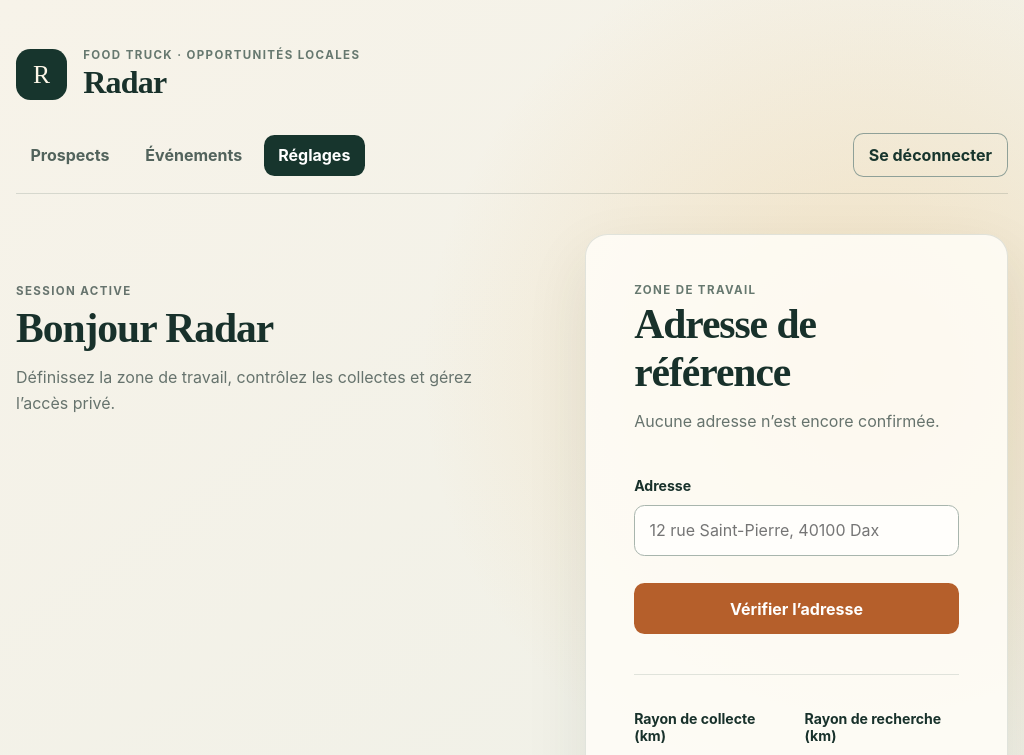
Test case: authentication interface › returns to login when the session expires during a settings action
The width and height of the screenshot is (1024, 755).
Check: the heading "Adresse de référence" is shown, box [634, 301, 816, 395]
Type "12 rue Saint-Pierre 40100 Dax" into the field labelled "Adresse" at (797, 530), box [634, 505, 959, 556]
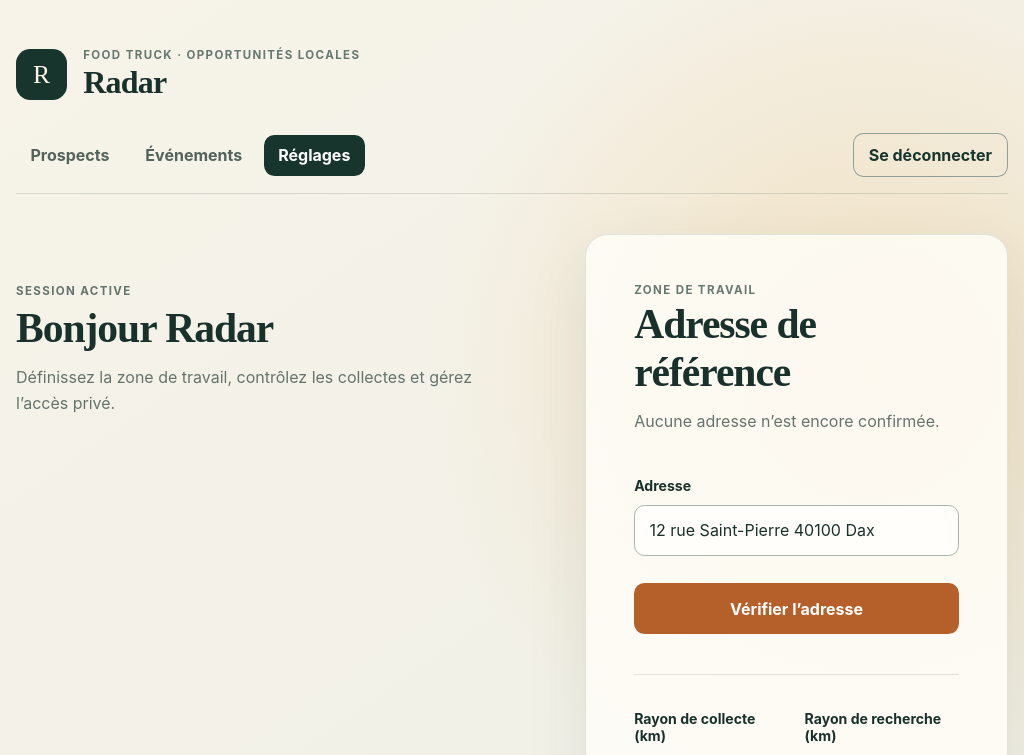
Click the button "Vérifier l’adresse" at (797, 609), box [634, 583, 959, 634]
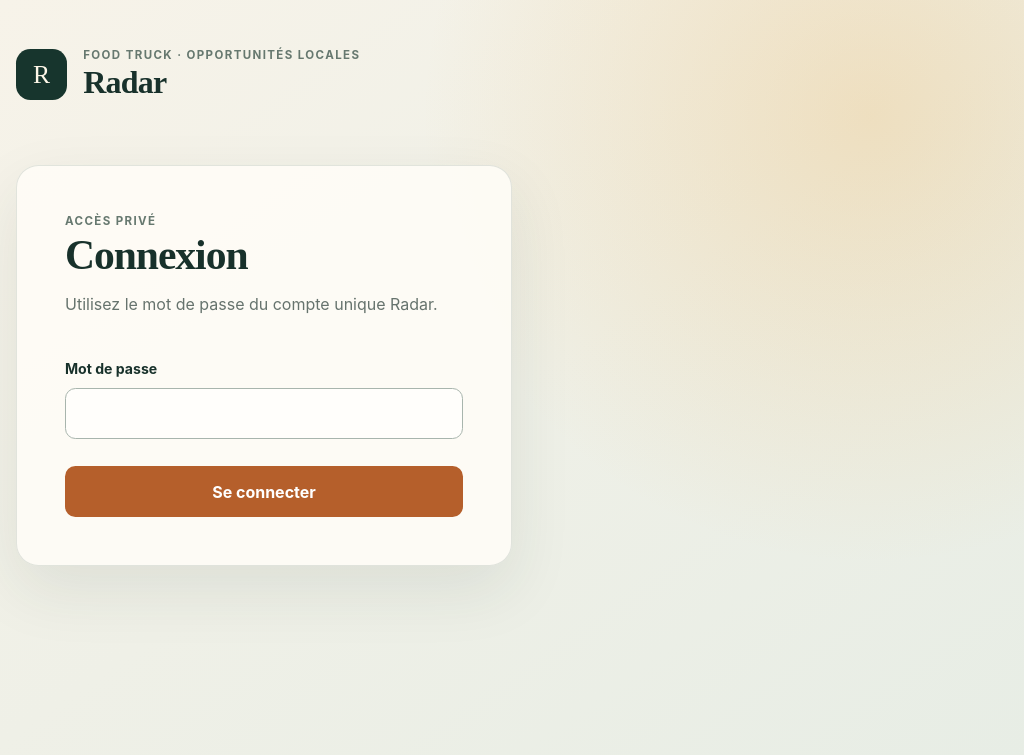
Check: the heading "Connexion" is shown, box [65, 232, 248, 278]
Check: the heading "Bonjour Radar" is gone
